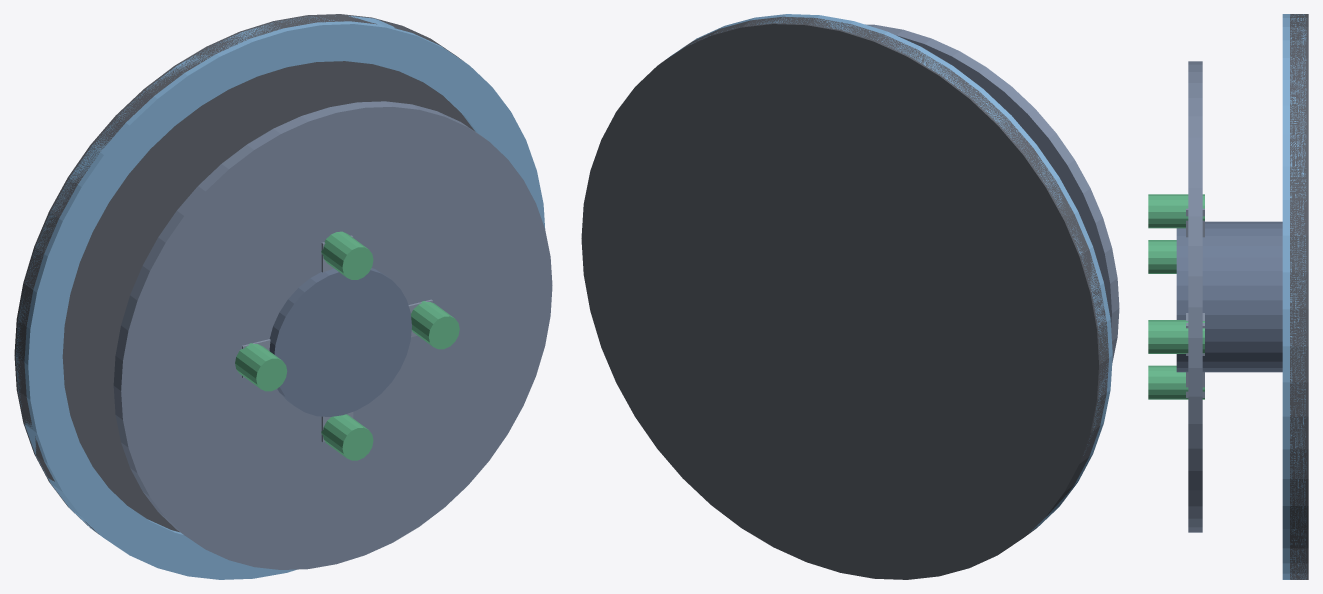
Rendered from centrifuge_rotor.glb.
3 views of the same model, side by side, from view 1: azimuth 30°, elevation 25°; view 2: azimuth 150°, elevation 25°; view 3: azimuth 270°, elevation 25° (orthographic). The views are drawn at different scales.
Visible parts, largest first — view 1: world; view 2: world; view 3: world.
Part boxes in pixels (x1=…): world: x1=14, y1=14, x2=552, y2=579; world: x1=581, y1=14, x2=1119, y2=579; world: x1=1148, y1=14, x2=1308, y2=579.
Bounding box in the file's own units: 0.6 × 0.6 × 0.17.
